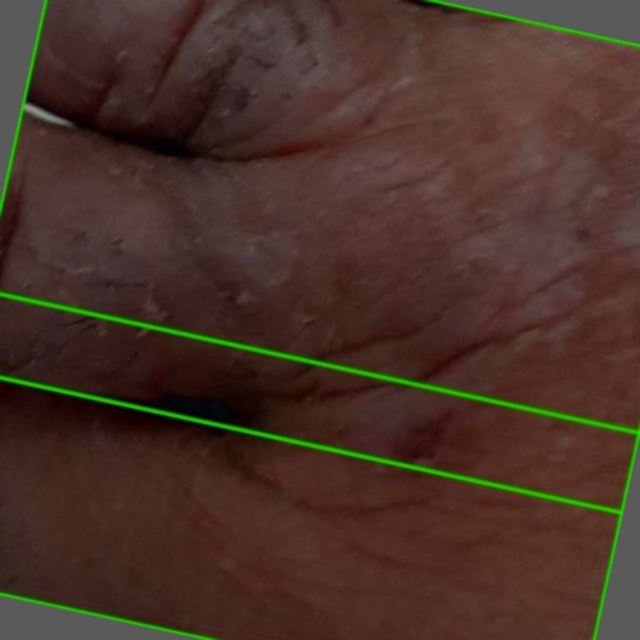Eczema: (0, 0, 639, 512), (0, 294, 639, 639)
